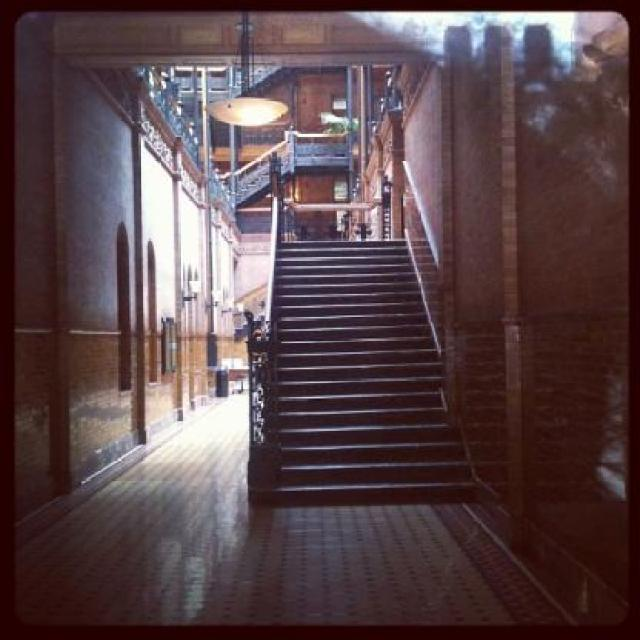stair: (242, 205, 460, 504)
